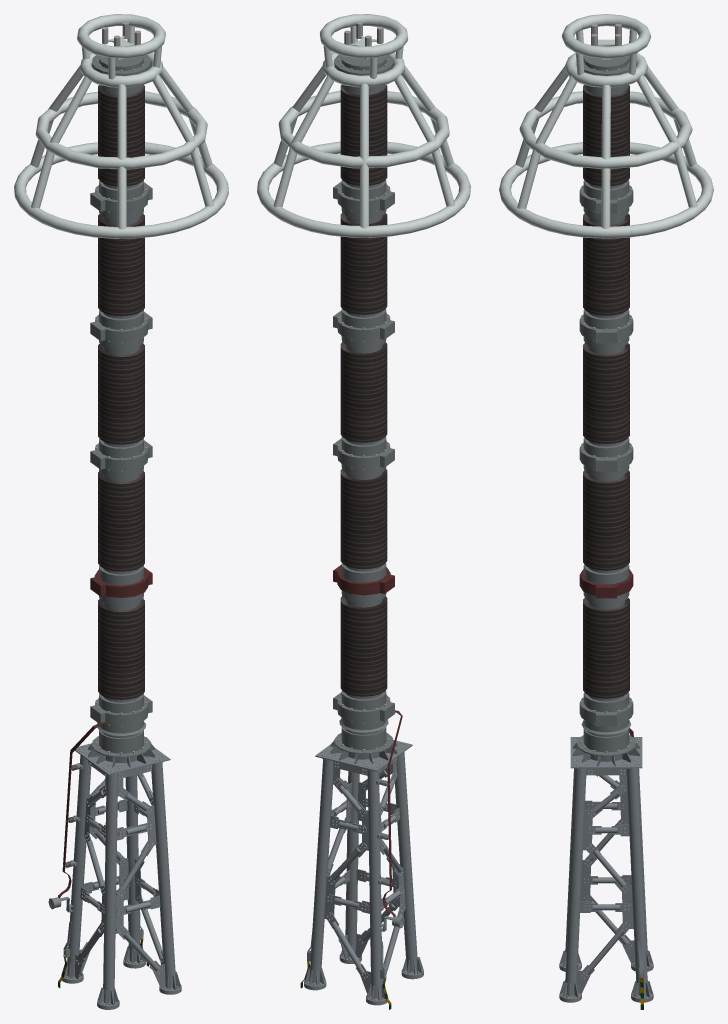
The model's file is BLQ.glb.
3 views of the same model, side by side, from view 1: azimuth 30°, elevation 25°; view 2: azimuth 150°, elevation 25°; view 3: azimuth 270°, elevation 25° (orthographic).
Parts seen in each view (by area): view 1: SM_BLQ_09M00170060015382_2; view 2: SM_BLQ_09M00170060015382_2; view 3: SM_BLQ_09M00170060015382_2.
Part boxes in pixels (x1=…): SM_BLQ_09M00170060015382_2: x1=14, y1=14, x2=228, y2=1009; SM_BLQ_09M00170060015382_2: x1=257, y1=14, x2=470, y2=1009; SM_BLQ_09M00170060015382_2: x1=499, y1=14, x2=713, y2=1009.
Size of the model in its own units: 3.6 by 17.7 by 3.6.
9 materials, 9 textured.
